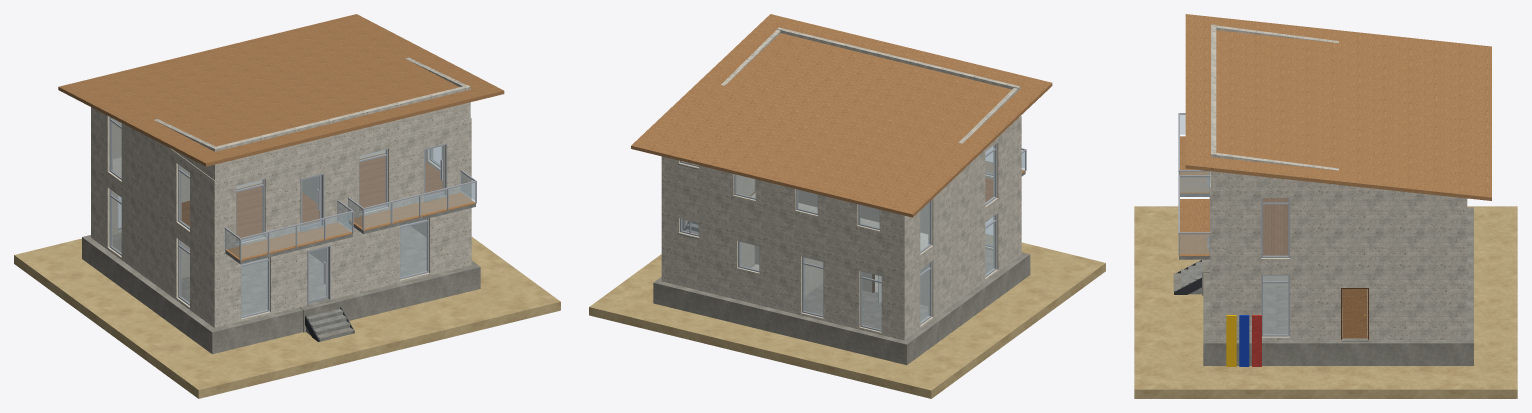
The model's file is b_malibu_beach_house.gltf.
3 renders of one model, left to right at view 1: azimuth 30°, elevation 25°; view 2: azimuth 150°, elevation 25°; view 3: azimuth 270°, elevation 25°, orthographic. The views are drawn at different scales.
Parts seen in each view (by area): view 1: S_malibu_beach_house, D_malibu_beach_house_F1_S2_Door0, D_malibu_beach_house_F2_S3_Door0, D_malibu_beach_house_F2_S1_Door0; view 2: S_malibu_beach_house; view 3: S_malibu_beach_house, D_malibu_beach_house_F1_E1_Door0.
Boxes of the visible parts, x1=… form: S_malibu_beach_house: x1=14, y1=14, x2=560, y2=398; D_malibu_beach_house_F1_S2_Door0: x1=308, y1=247, x2=328, y2=303; D_malibu_beach_house_F2_S3_Door0: x1=425, y1=145, x2=444, y2=199; D_malibu_beach_house_F2_S1_Door0: x1=302, y1=175, x2=321, y2=229; S_malibu_beach_house: x1=589, y1=14, x2=1105, y2=398; S_malibu_beach_house: x1=1134, y1=14, x2=1517, y2=398; D_malibu_beach_house_F1_E1_Door0: x1=1342, y1=289, x2=1367, y2=338.
Size of the model in its own units: 17 by 9.41 by 15.
21 materials, 12 textured.
